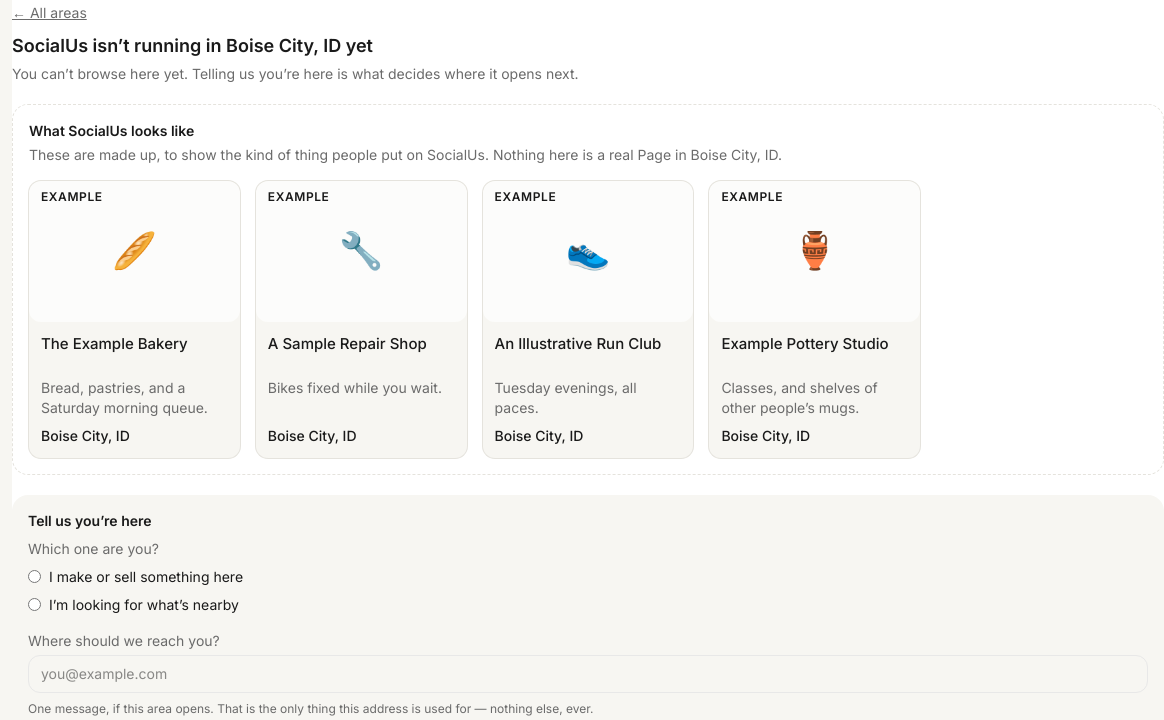
Test: signed out — criterion 13, no account and no second step › will not submit without both an address and a role
The width and height of the screenshot is (1164, 720).
Type "a@b.com" into the field with test id "waitlist-email" at (588,674), box left=28, top=654, right=1148, bottom=692
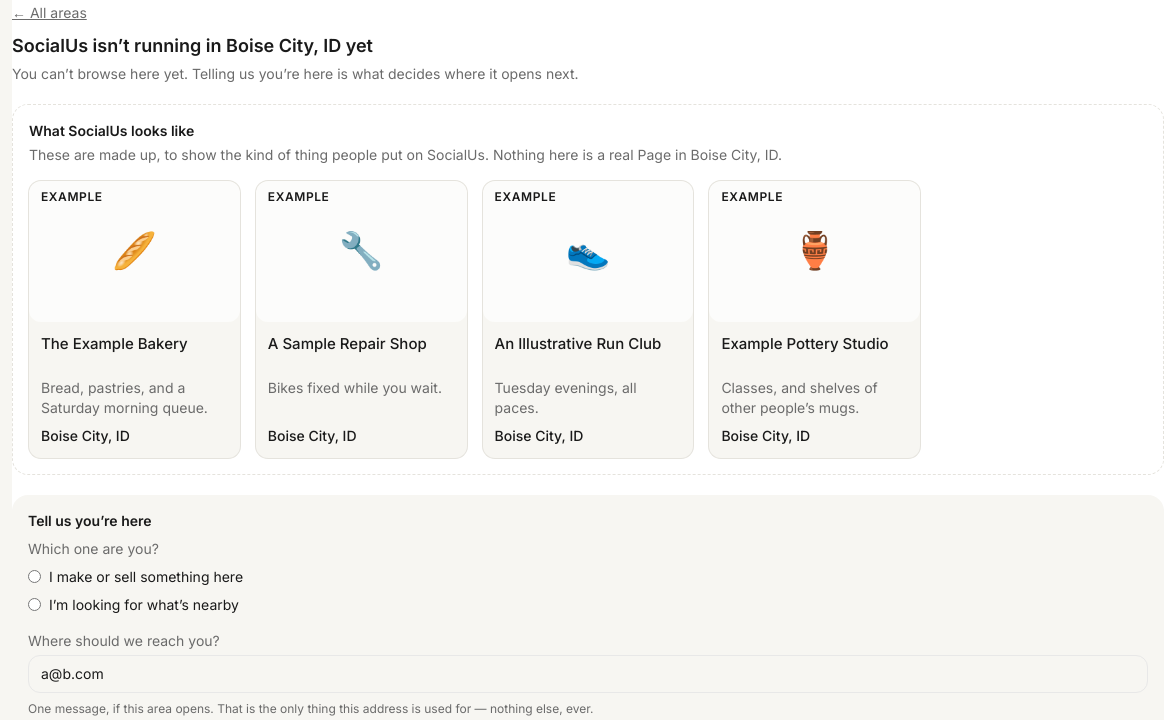
Click the radio button with test id "waitlist-role-patron" at (34,604), box left=28, top=598, right=41, bottom=611
(page scrolled)
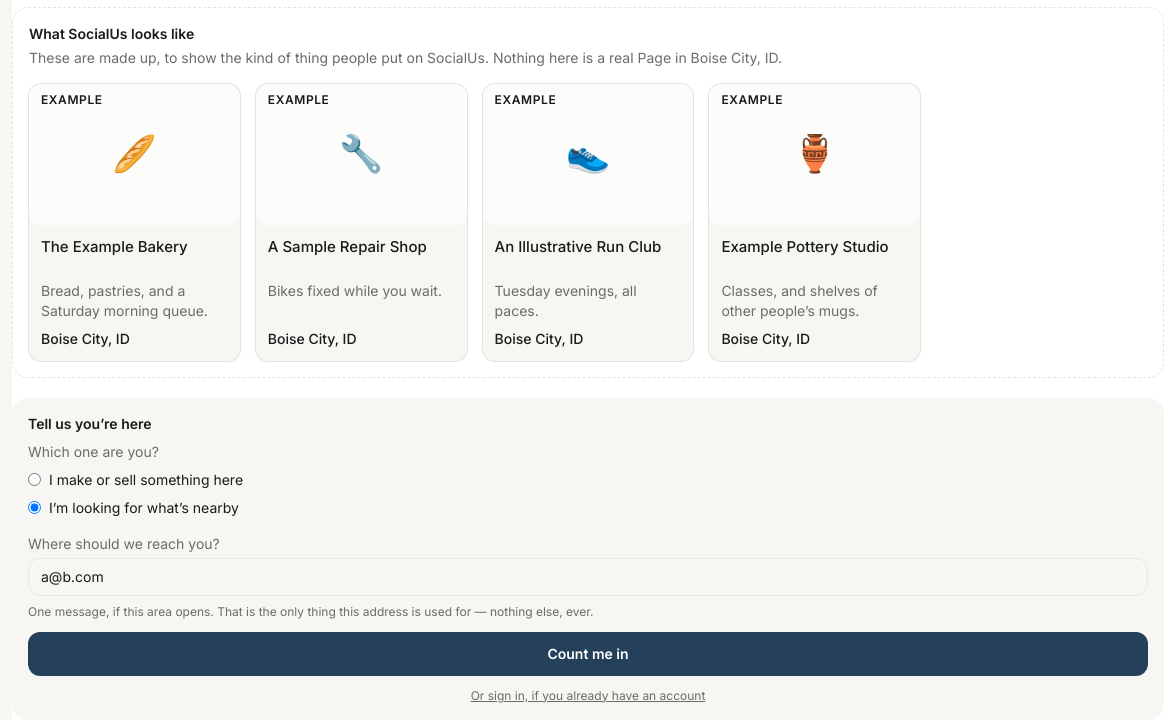
Expected: the button with test id "waitlist-join" is enabled, left=28, top=632, right=1148, bottom=676
